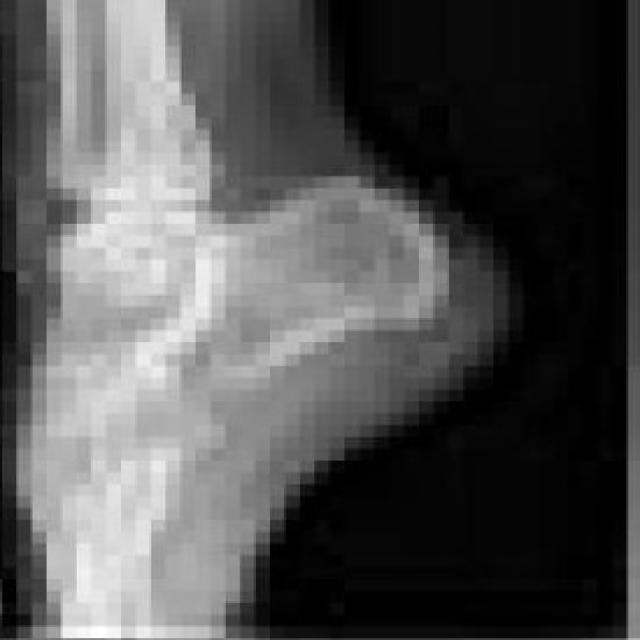Avulsion-fracture-: (13, 210, 244, 456)
